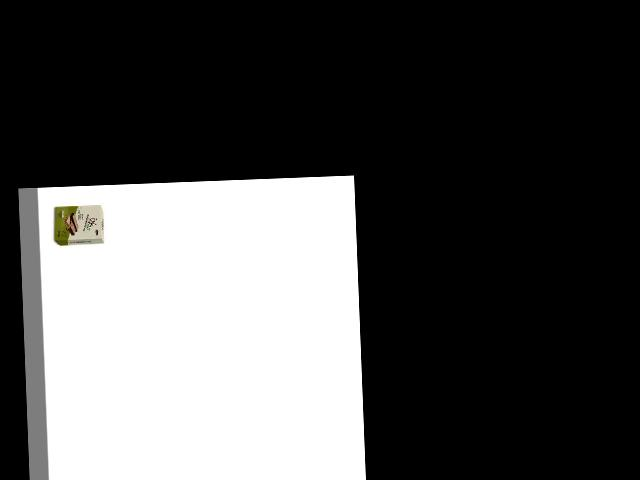chocolate: (50, 200, 105, 248)
